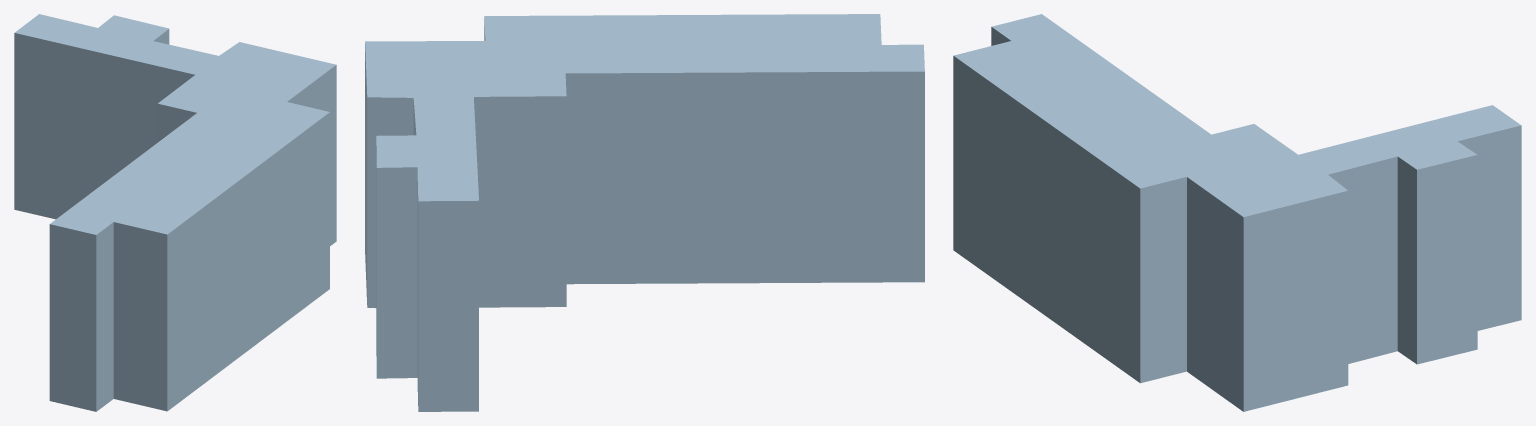
Rendered from osm_way_225250617.glb.
The picture shows the model from 3 angles, left to right: view 1: azimuth 30°, elevation 25°; view 2: azimuth 150°, elevation 25°; view 3: azimuth 270°, elevation 25°; orthographic projection. The views are drawn at different scales.
Parts seen in each view (by area): view 1: osm_way_225250617; view 2: osm_way_225250617; view 3: osm_way_225250617.
Boxes of the visible parts, x1=… form: osm_way_225250617: x1=14, y1=14, x2=336, y2=411; osm_way_225250617: x1=365, y1=14, x2=924, y2=411; osm_way_225250617: x1=953, y1=14, x2=1521, y2=411.
Size of the model in its own units: 42.97 by 19.2 by 50.76.
